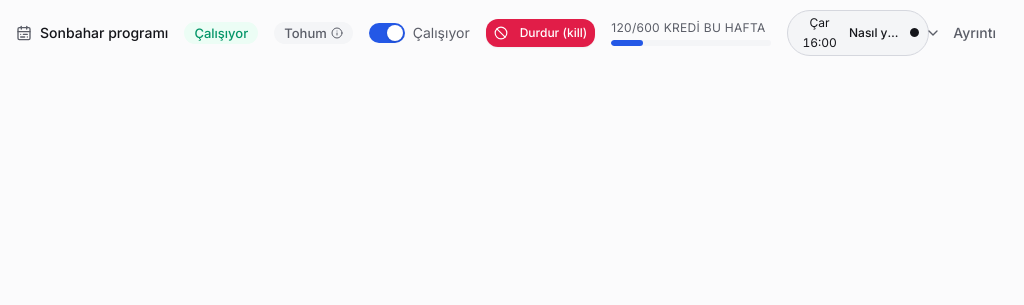
Test: ProgrammePanel — slot editor › a frozen READY slot keeps its fields, disables the edit, and still offers skip and regenerate
This screenshot has width=1024, height=305.
Click the button with test id "programme-chip" at (858, 33), box [787,10,929,56]
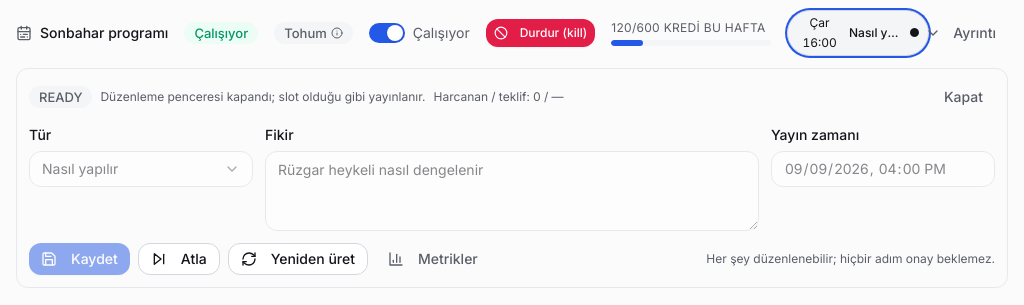
expect the text with test id "programme-slot-window" reads "Düzenleme penceresi kapandı; slot olduğu gibi yayınlanır.": met, box [100,89,425,104]
expect the button "Kaydet" is disabled: met, box [29,243,130,275]
expect the text box labelled "Fikir" is disabled: met, box [265,151,759,231]
